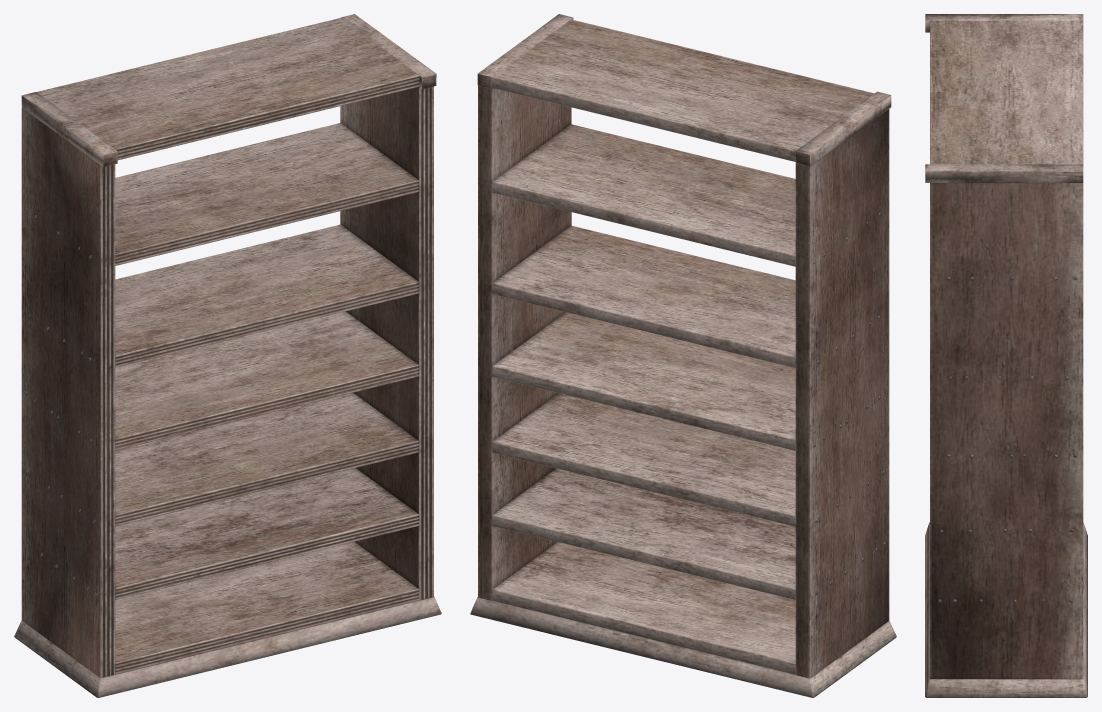
The model's file is wooden_bookshelf_worn_1k.gltf.
The picture shows the model from 3 angles, left to right: view 1: azimuth 30°, elevation 25°; view 2: azimuth 150°, elevation 25°; view 3: azimuth 270°, elevation 25°; orthographic projection. The views are drawn at different scales.
Visible parts, largest first — view 1: wooden_bookshelf_worn; view 2: wooden_bookshelf_worn; view 3: wooden_bookshelf_worn.
Part boxes in pixels (x1=…): wooden_bookshelf_worn: x1=14, y1=14, x2=441, y2=697; wooden_bookshelf_worn: x1=470, y1=14, x2=896, y2=697; wooden_bookshelf_worn: x1=925, y1=14, x2=1087, y2=697.
Bounding box in the file's own units: 1.37 × 2.06 × 0.5813.
1 material, 1 textured.
